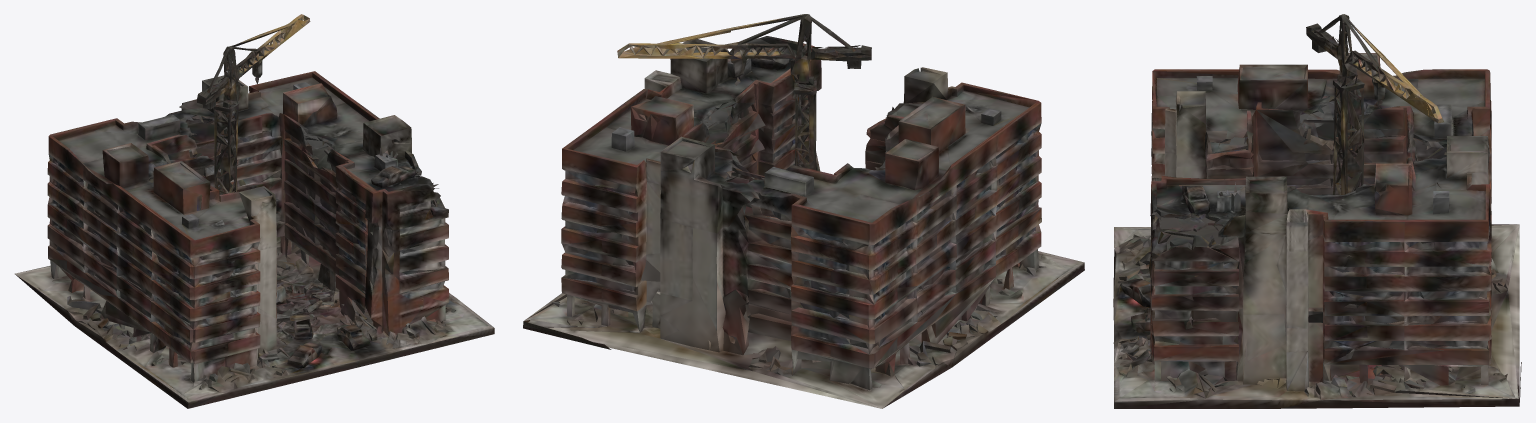
Rendered from popolari_dev.glb.
3 renders of one model, left to right at view 1: azimuth 30°, elevation 25°; view 2: azimuth 150°, elevation 25°; view 3: azimuth 270°, elevation 25°, orthographic. The views are drawn at different scales.
Visible parts, largest first — view 1: output_unwrapped; view 2: output_unwrapped; view 3: output_unwrapped.
Part boxes in pixels (x1,y1,x2,y2): output_unwrapped: (14, 14, 494, 408); output_unwrapped: (523, 14, 1084, 408); output_unwrapped: (1113, 14, 1521, 408).
Bounding box in the file's own units: 1.9 × 1.52 × 1.87.
1 material, 1 textured.
